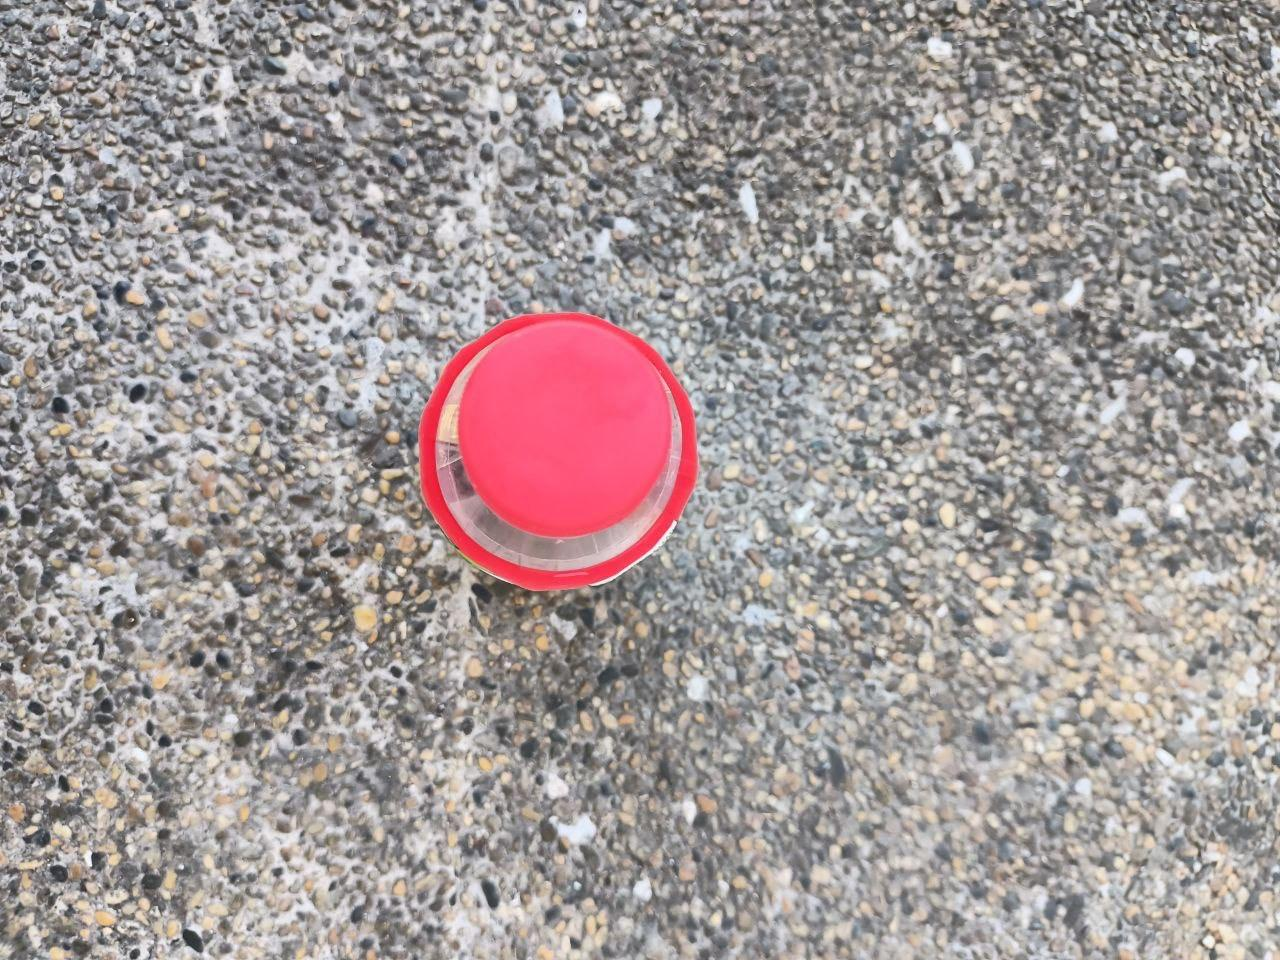plastic: (368, 264, 748, 630)
